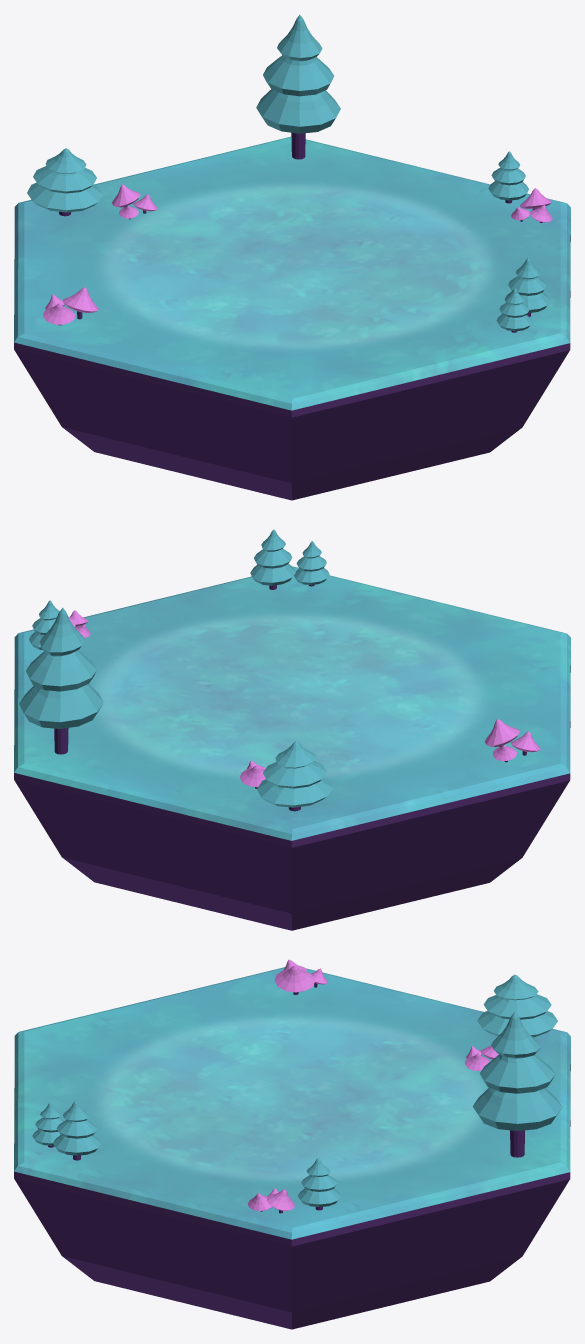
The model's file is Asset_Biome_Forest_01.fbx.
3 views of the same model, one above another, from view 1: azimuth 30°, elevation 25°; view 2: azimuth 150°, elevation 25°; view 3: azimuth 270°, elevation 25° (orthographic).
Parts seen in each view (by area): view 1: Asset_Tile_Forest, PolySurface_TreeForest_014, PolySurface_TreeForest_04, PolySurface_TreeForest_07, PolySurface_TreeForest_09, PolySurface_MushroomForest_02, PolySurface_TreeForest_08, PolySurface_MushroomForest_01, PolySurface_MushroomForest_03; view 2: Asset_Tile_Forest, PolySurface_TreeForest_014, PolySurface_TreeForest_04, PolySurface_TreeForest_09, PolySurface_MushroomForest_02, PolySurface_TreeForest_08, PolySurface_TreeForest_07; view 3: Asset_Tile_Forest, PolySurface_TreeForest_014, PolySurface_TreeForest_04, PolySurface_TreeForest_09, PolySurface_TreeForest_07, PolySurface_MushroomForest_02, PolySurface_TreeForest_08, PolySurface_MushroomForest_03, PolySurface_MushroomForest_01.
Part boxes in pixels (x1,y1,x2,y2): Asset_Tile_Forest: (14,136,570,500); PolySurface_TreeForest_014: (256,15,340,159); PolySurface_TreeForest_04: (27,148,102,216); PolySurface_TreeForest_07: (488,151,529,203); PolySurface_TreeForest_09: (504,258,550,316); PolySurface_MushroomForest_02: (43,287,98,325); PolySurface_TreeForest_08: (496,288,532,332); PolySurface_MushroomForest_01: (112,184,157,219); PolySurface_MushroomForest_03: (511,188,552,222); Asset_Tile_Forest: (14,566,570,930); PolySurface_TreeForest_014: (19,607,103,754); PolySurface_TreeForest_04: (257,741,332,811); PolySurface_TreeForest_09: (250,529,295,589); PolySurface_MushroomForest_02: (484,719,540,762); PolySurface_TreeForest_08: (294,541,329,586); PolySurface_TreeForest_07: (29,600,59,649); Asset_Tile_Forest: (14,967,570,1329); PolySurface_TreeForest_014: (472,1012,562,1157); PolySurface_TreeForest_04: (477,974,557,1037); PolySurface_TreeForest_09: (53,1100,101,1160); PolySurface_TreeForest_07: (298,1158,340,1210); PolySurface_MushroomForest_02: (274,959,327,994); PolySurface_TreeForest_08: (32,1102,64,1147); PolySurface_MushroomForest_03: (248,1188,294,1213); PolySurface_MushroomForest_01: (465,1045,498,1070).
Size of the model in its own units: 436 by 218 by 378.
